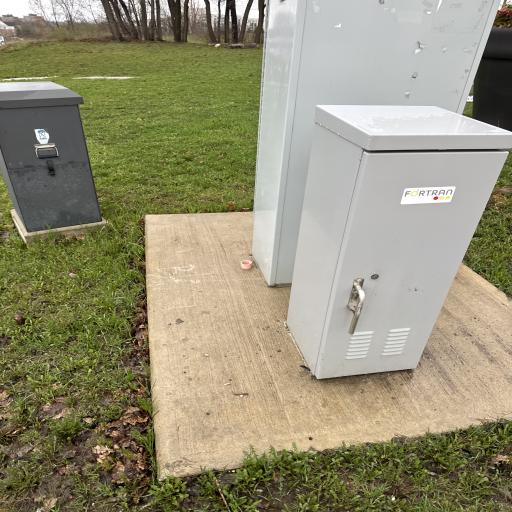Electrical Box: (248, 0, 511, 378), (1, 81, 105, 240)
